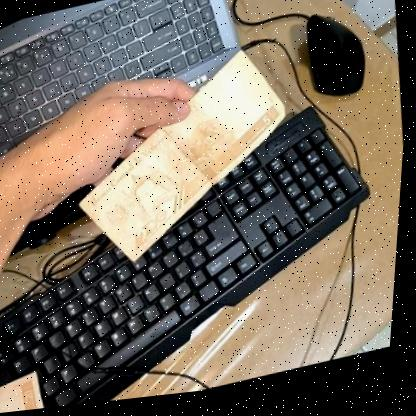five-back-vef: (64, 42, 307, 278)
